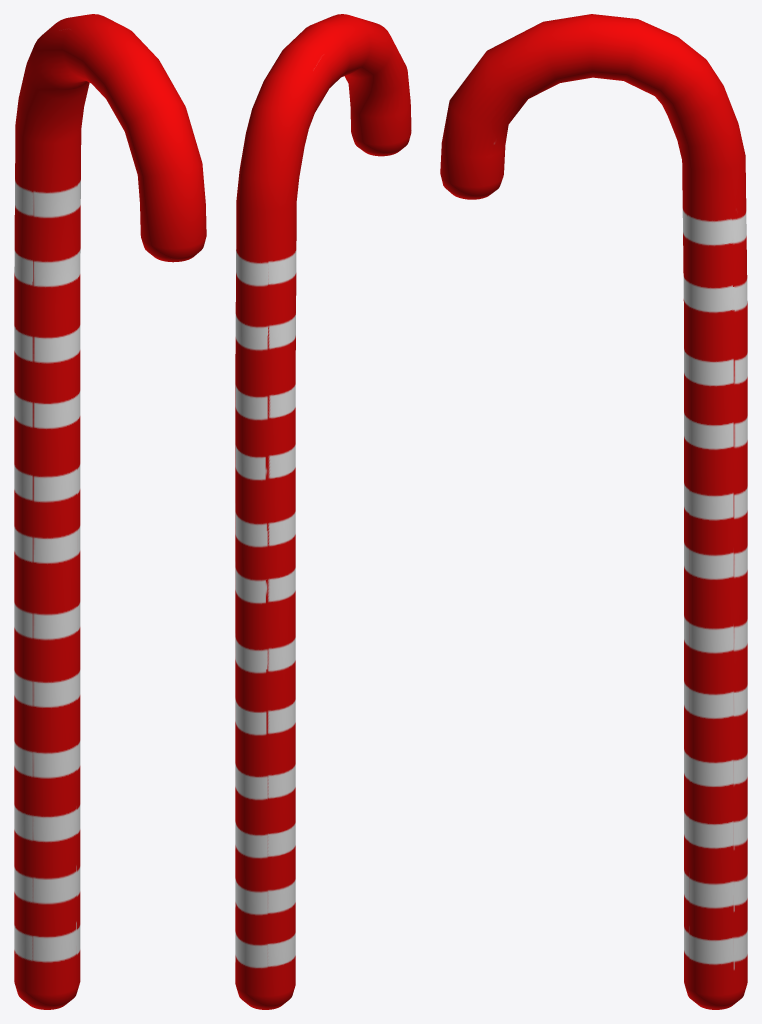
File: Cane.fbx
3 views of the same model, side by side, from view 1: azimuth 30°, elevation 25°; view 2: azimuth 150°, elevation 25°; view 3: azimuth 270°, elevation 25° (orthographic). The views are drawn at different scales.
Parts seen in each view (by area): view 1: Cylinder; view 2: Cylinder; view 3: Cylinder.
Boxes of the visible parts, left/top/right/bottom form: Cylinder: left=14, top=14, right=206, bottom=1009; Cylinder: left=235, top=14, right=411, bottom=1009; Cylinder: left=440, top=14, right=747, bottom=1009.
Size of the model in its own units: 29.6 by 507 by 143.
